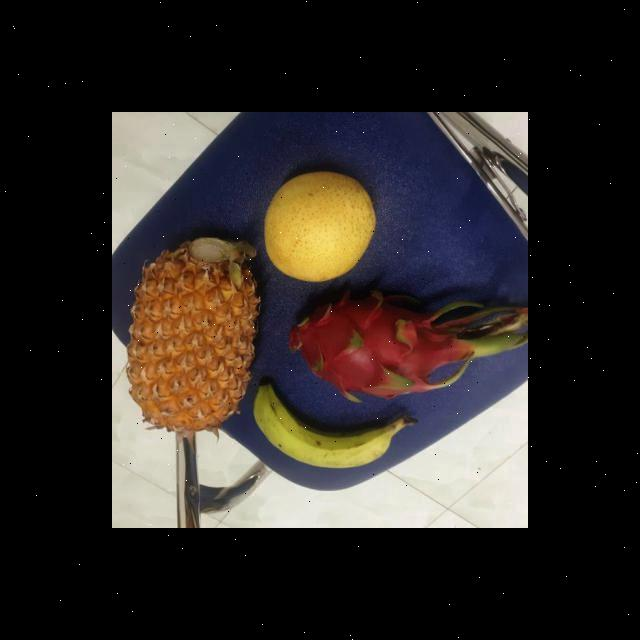banana: (249, 383, 399, 470)
pear: (259, 168, 376, 282)
pineapple: (125, 235, 252, 426)
pitaya: (278, 287, 458, 402)
